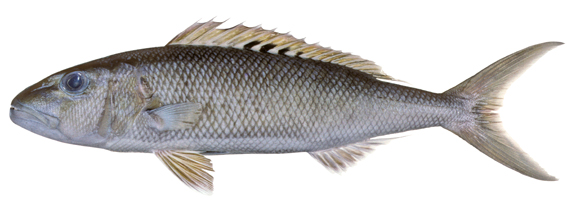fish: (9, 17, 562, 191)
